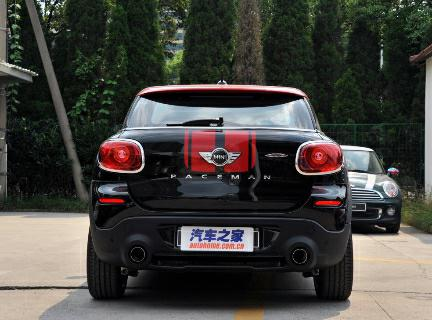MINI-JCWPACEMAN: (79, 83, 362, 296)
